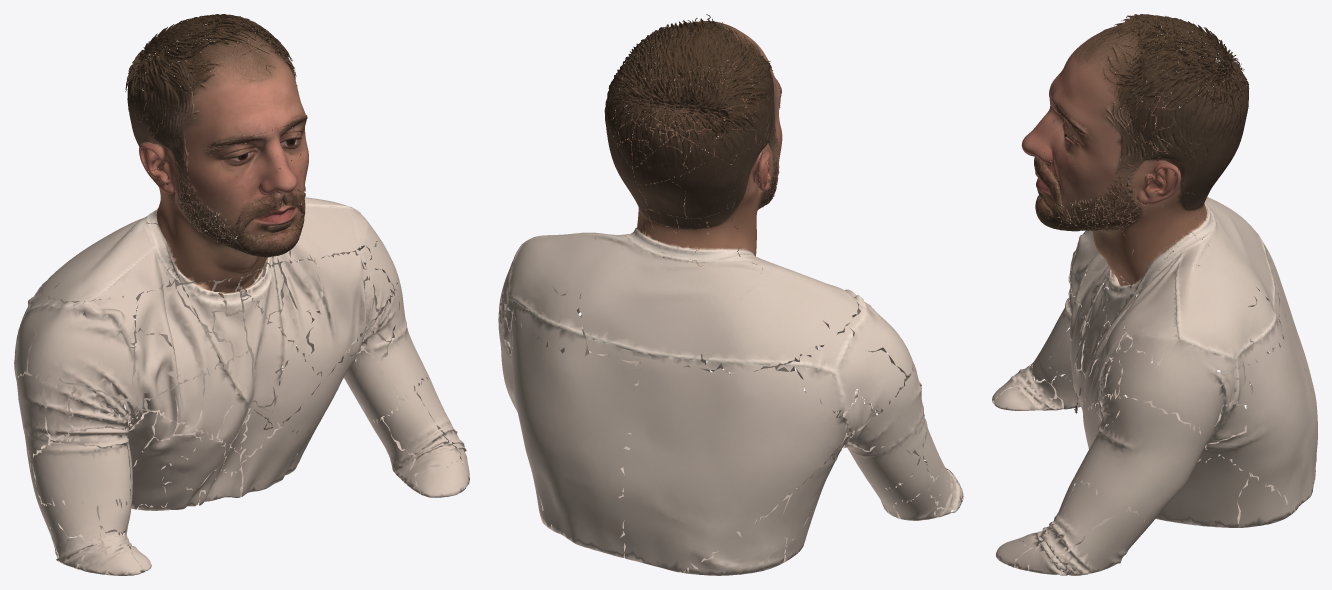
The model's file is head.glb.
3 views of the same model, side by side, from view 1: azimuth 30°, elevation 25°; view 2: azimuth 150°, elevation 25°; view 3: azimuth 270°, elevation 25° (orthographic). The views are drawn at different scales.
Size of the model in its own units: 0.844 by 0.8998 by 0.5798.
1 material, 1 textured.
